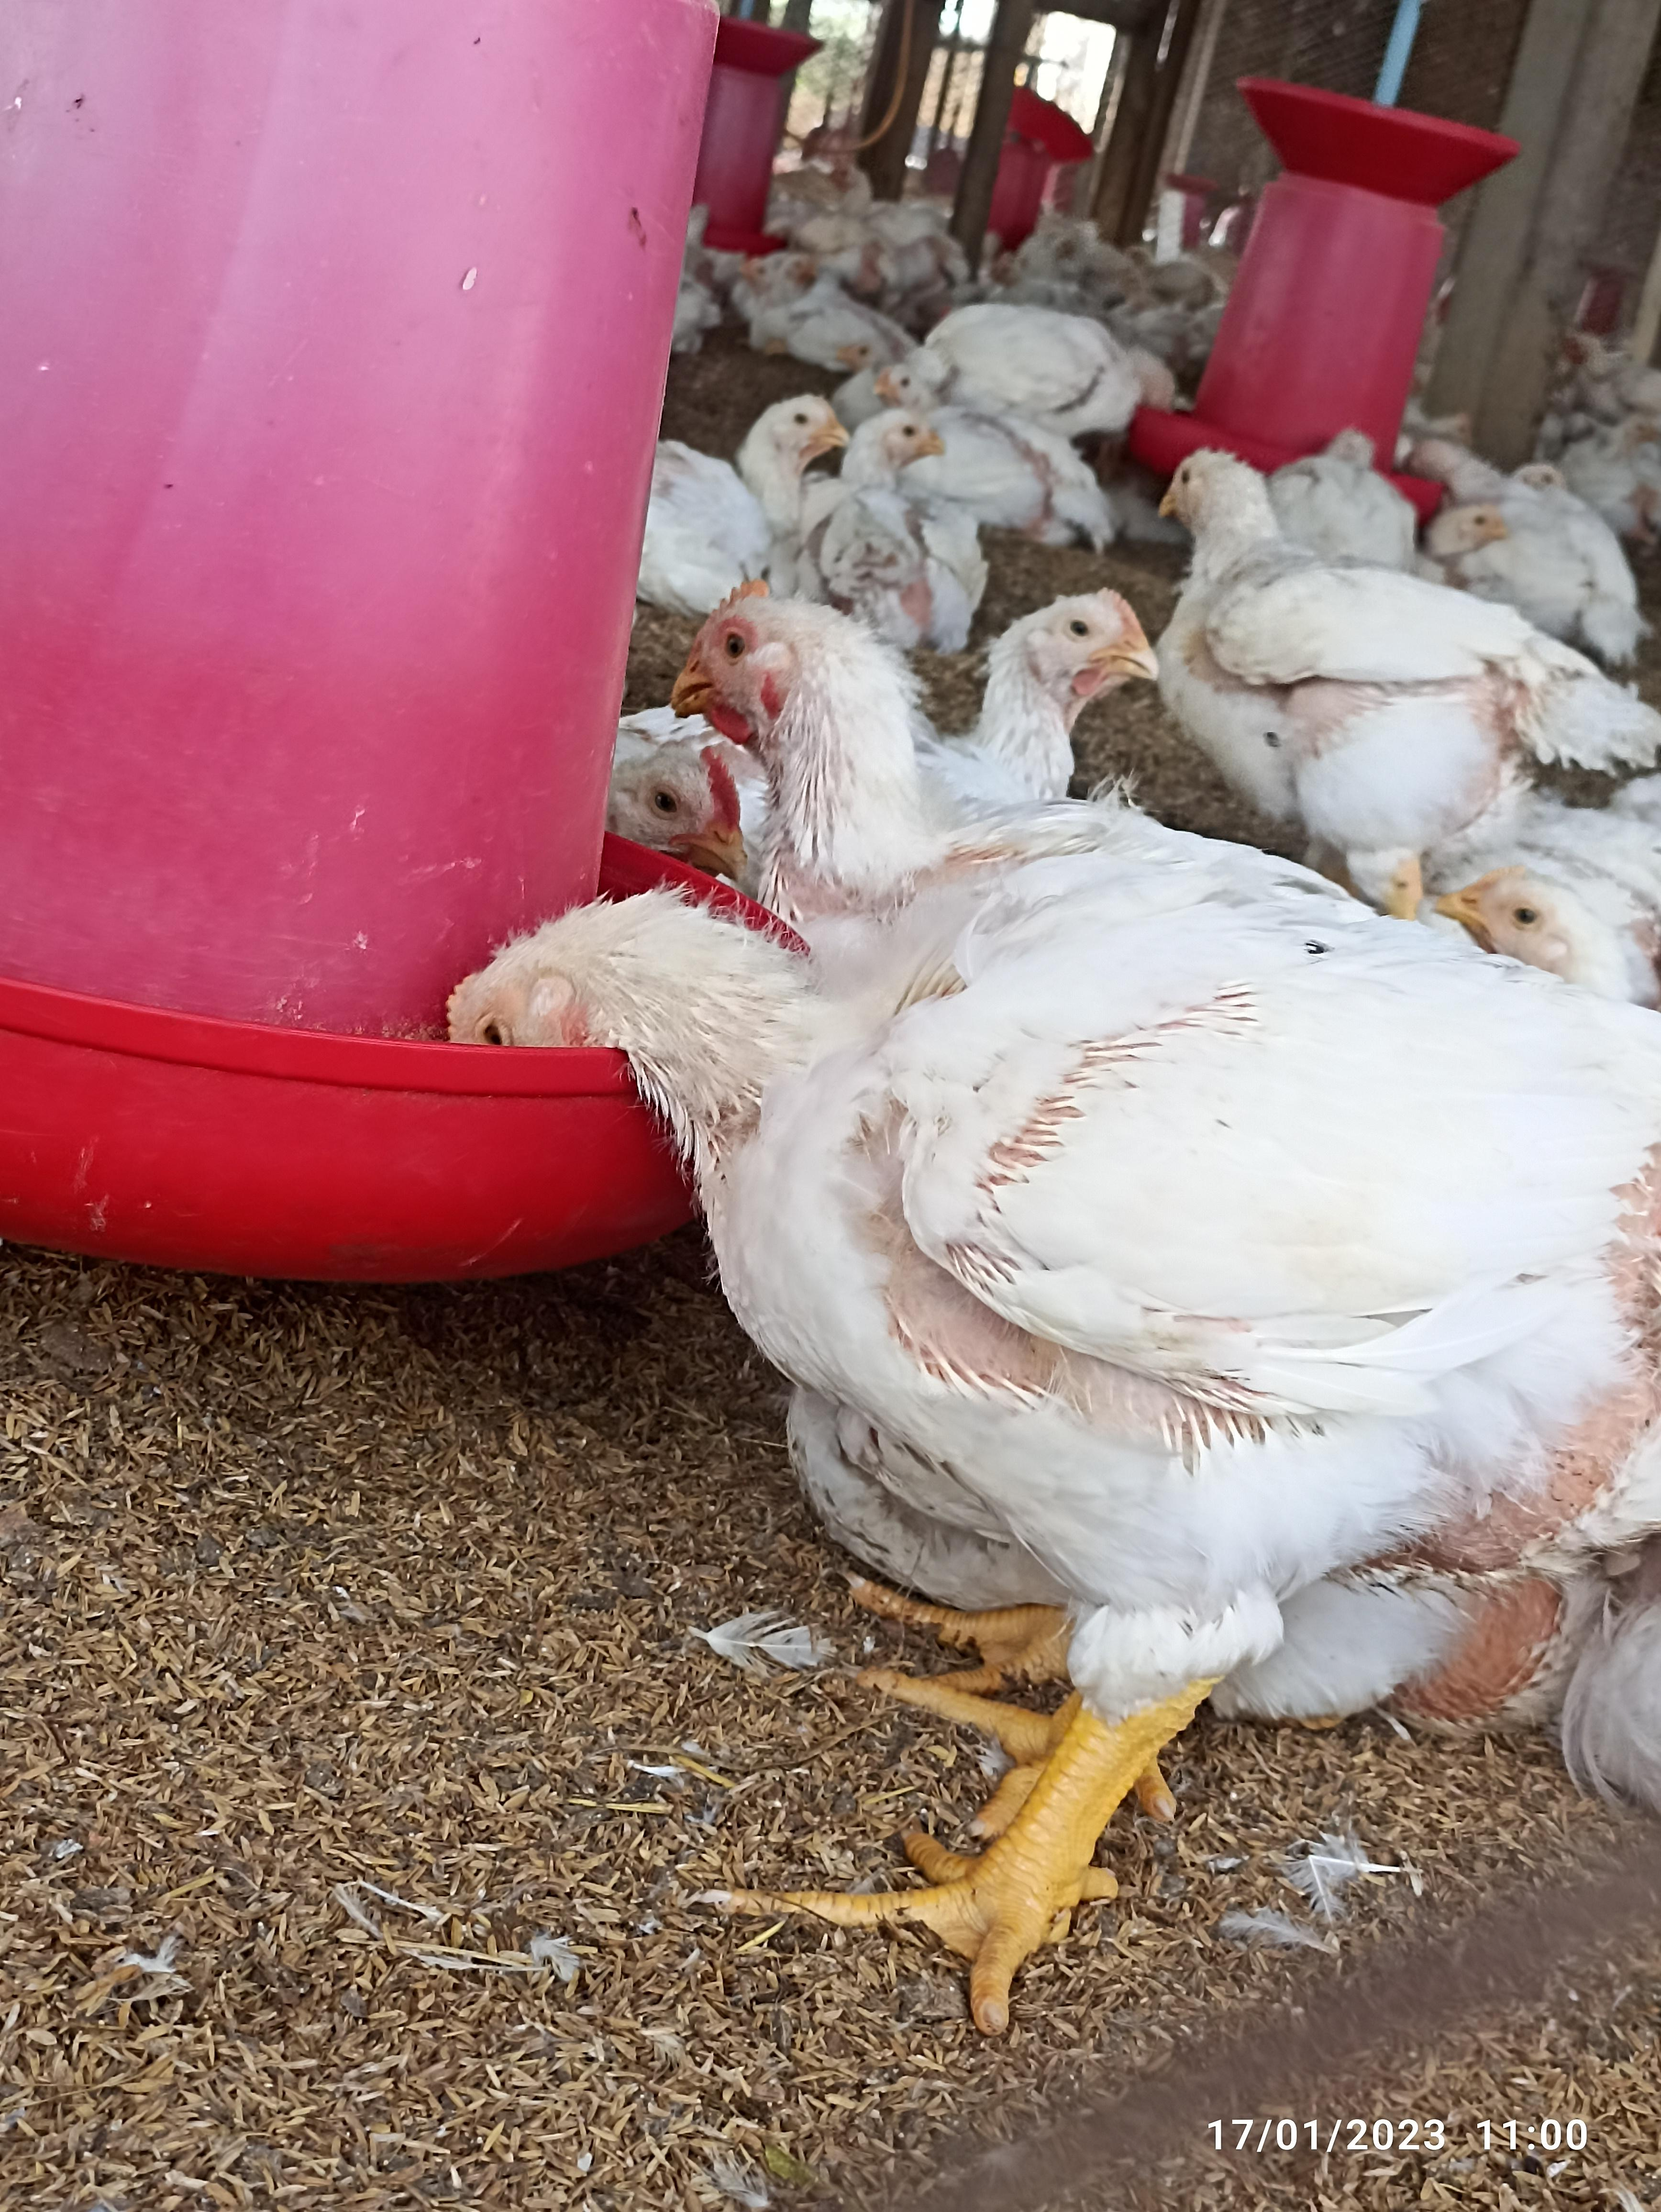Pollos: (450, 874, 1654, 1631), (1155, 455, 1645, 843), (663, 581, 937, 893), (953, 581, 1162, 813), (883, 290, 1159, 419), (660, 391, 844, 563), (839, 391, 937, 553)
